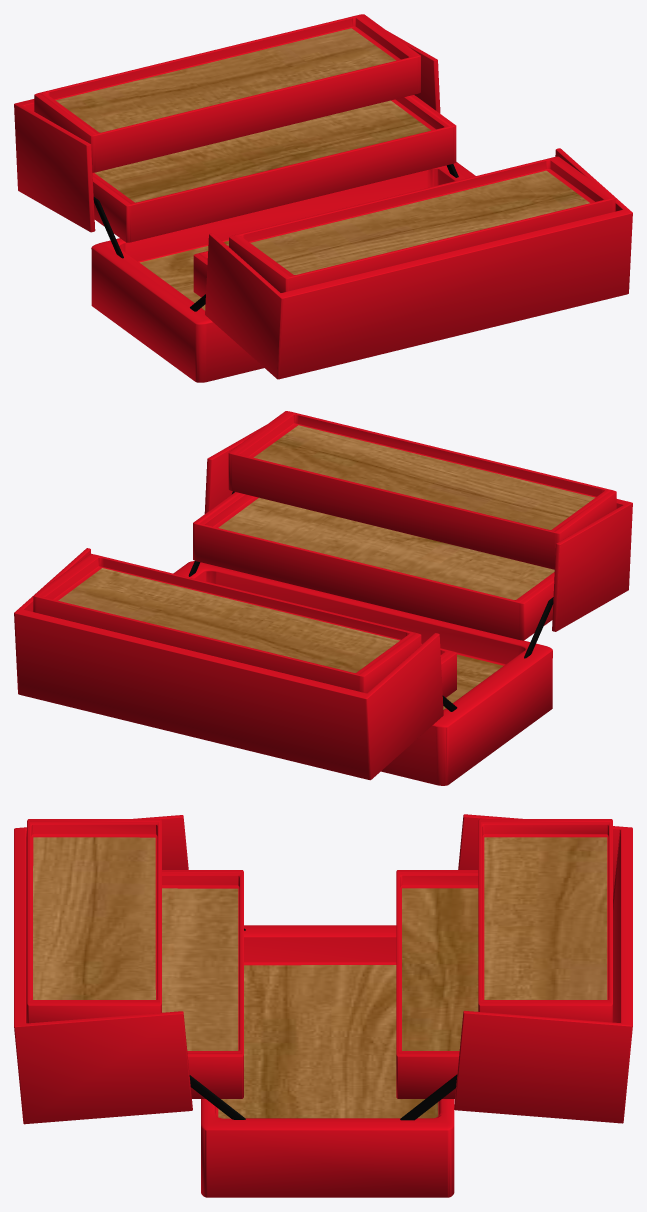
3 views of the same model, one above another, from view 1: azimuth 30°, elevation 25°; view 2: azimuth 150°, elevation 25°; view 3: azimuth 270°, elevation 25° (orthographic). The views are drawn at different scales.
Visible parts, largest first — view 1: Cube.005, Cube.002, Cube.001, Cube.003, Cube.015, Cube.014, Cube.004; view 2: Cube.014, Cube.003, Cube.004, Cube.002, Cube.015, Cube.005, Cube.001; view 3: Cube.015, Cube.003, Cube.002, Cube.014, Cube.005, Cube.001, Cube.004, Cube.006, Cube.009.
Boxes of the visible parts, x1=… form: Cube.005: x1=205, y1=148, x2=632, y2=379; Cube.002: x1=34, y1=14, x2=420, y2=172; Cube.001: x1=92, y1=95, x2=456, y2=242; Cube.003: x1=229, y1=156, x2=615, y2=292; Cube.015: x1=91, y1=162, x2=475, y2=382; Cube.014: x1=14, y1=31, x2=440, y2=232; Cube.004: x1=193, y1=246, x2=228, y2=297; Cube.014: x1=14, y1=548, x2=443, y2=780; Cube.003: x1=228, y1=411, x2=616, y2=569; Cube.004: x1=193, y1=492, x2=554, y2=640; Cube.002: x1=33, y1=554, x2=421, y2=693; Cube.015: x1=173, y1=561, x2=552, y2=785; Cube.005: x1=204, y1=425, x2=632, y2=631; Cube.001: x1=421, y1=643, x2=456, y2=697; Cube.015: x1=201, y1=925, x2=454, y2=1197; Cube.003: x1=27, y1=819, x2=161, y2=1023; Cube.002: x1=478, y1=819, x2=612, y2=1022; Cube.014: x1=454, y1=814, x2=632, y2=1123; Cube.005: x1=14, y1=815, x2=192, y2=1124; Cube.001: x1=396, y1=870, x2=478, y2=1098; Cube.004: x1=162, y1=870, x2=243, y2=1098; Cube.006: x1=400, y1=1074, x2=457, y2=1120; Cube.009: x1=189, y1=1075, x2=245, y2=1119.
Bounding box in the file's own units: 32.91 × 13.75 × 42.01.
